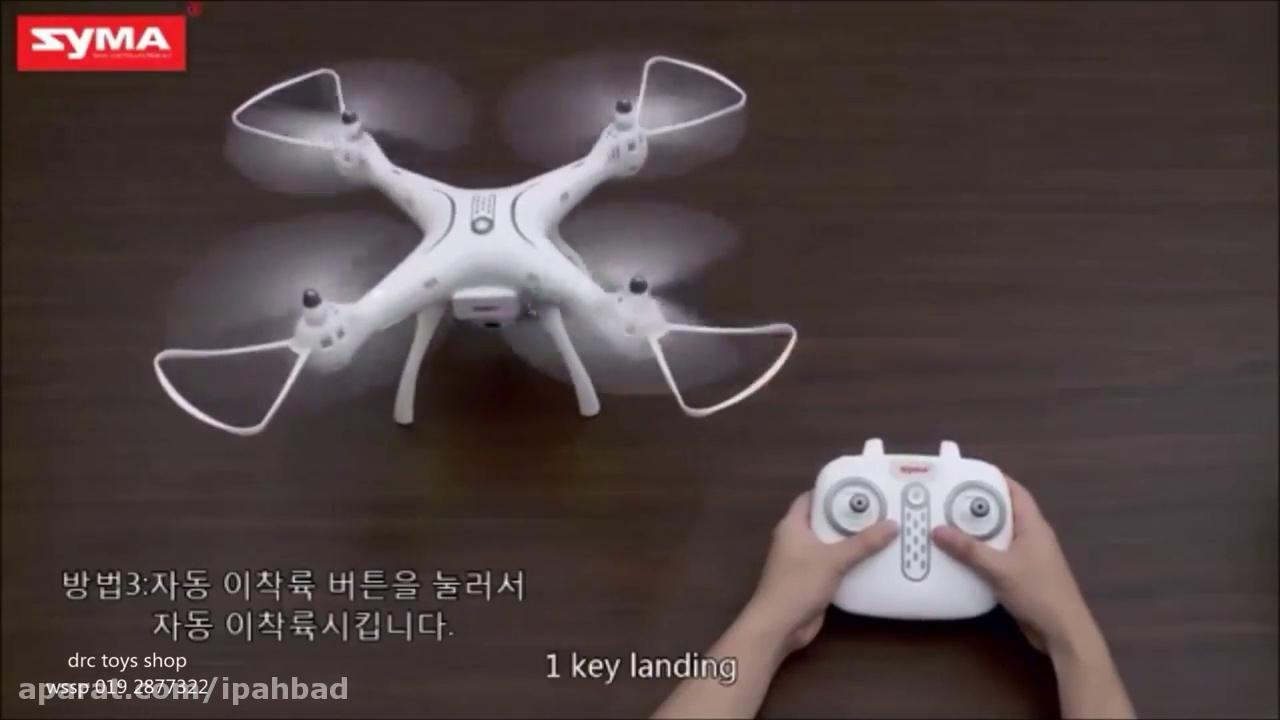drone: (150, 49, 799, 438)
